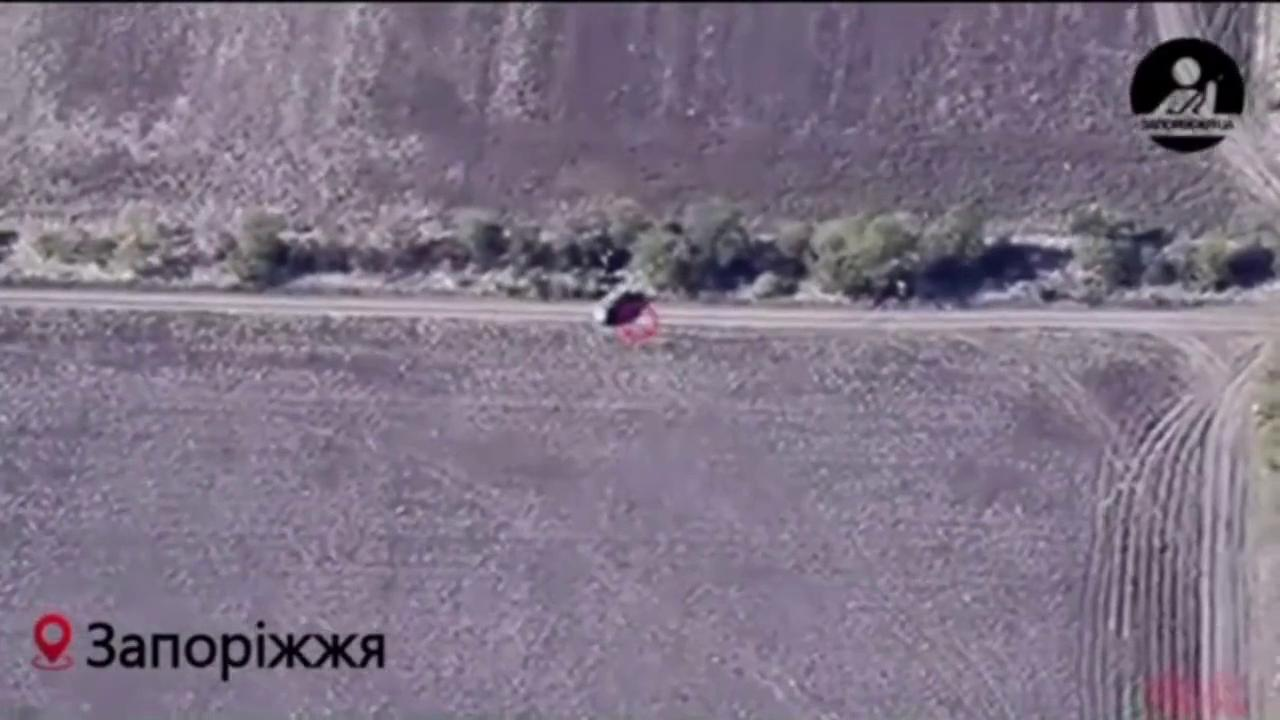tank: (590, 279, 648, 328)
